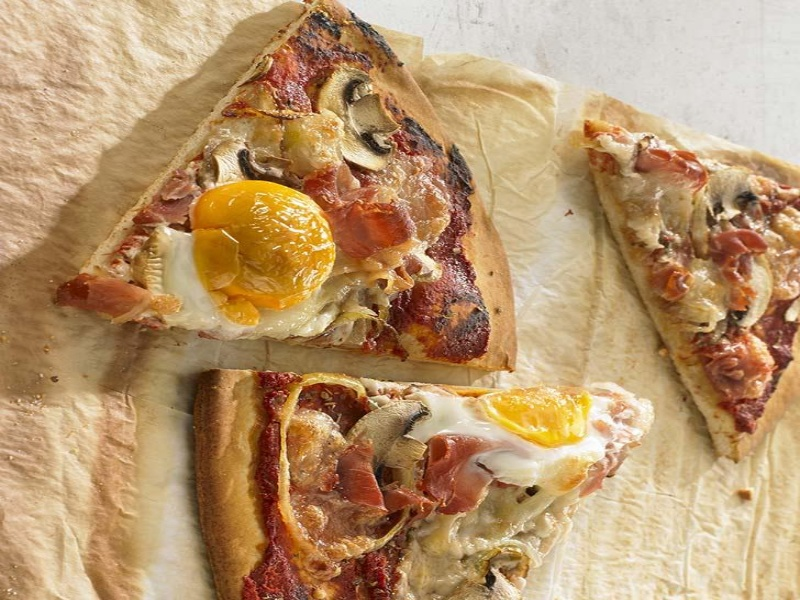champignon: (312, 67, 407, 177), (335, 400, 448, 481)
oeuf: (187, 176, 350, 333), (456, 383, 616, 474)
